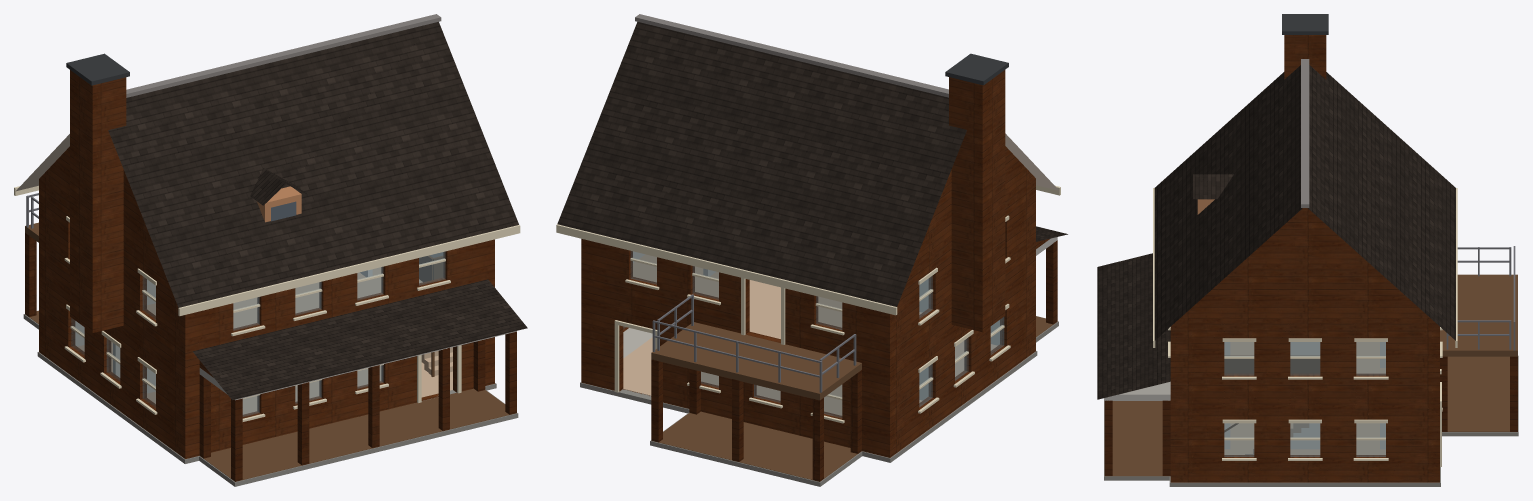
Rendered from rw-log-house.towns-v1.lod0.glb.
3 views of the same model, side by side, from view 1: azimuth 30°, elevation 25°; view 2: azimuth 150°, elevation 25°; view 3: azimuth 270°, elevation 25° (orthographic). The views are drawn at different scales.
Visible parts, largest first — view 1: rw-log-house; view 2: rw-log-house; view 3: rw-log-house.
Boxes of the visible parts, x1,y1,x2,y2 form: rw-log-house: (14,14,527,486); rw-log-house: (556,14,1067,486); rw-log-house: (1097,14,1518,486).
Size of the model in its own units: 12.78 by 11.74 by 14.08.
6 materials, 2 textured.
